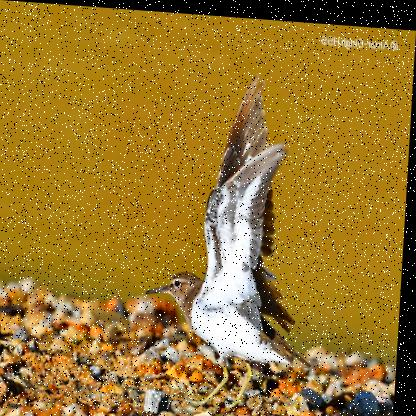Burung: (146, 65, 329, 410)
